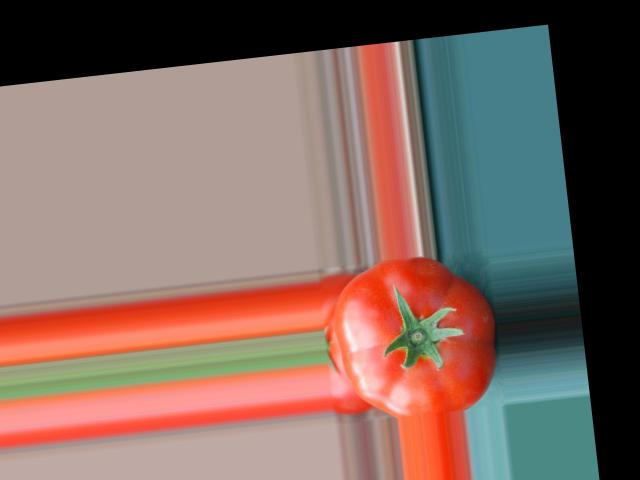tomato: (327, 247, 503, 424)
